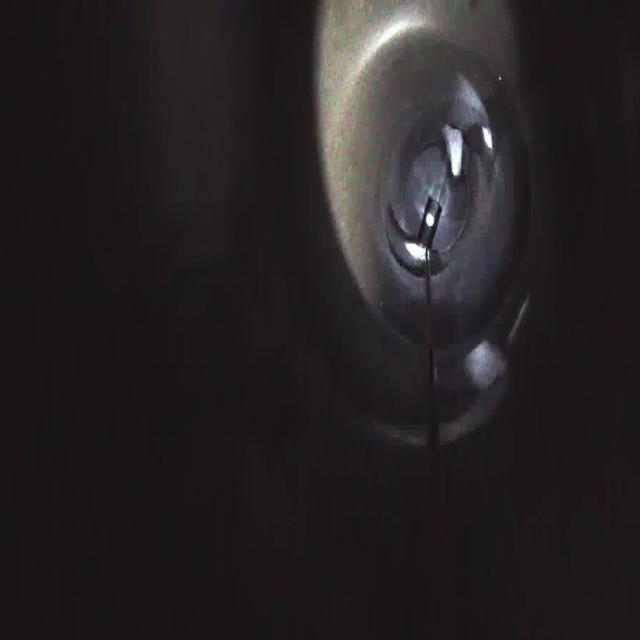impurity: (437, 116, 468, 180)
